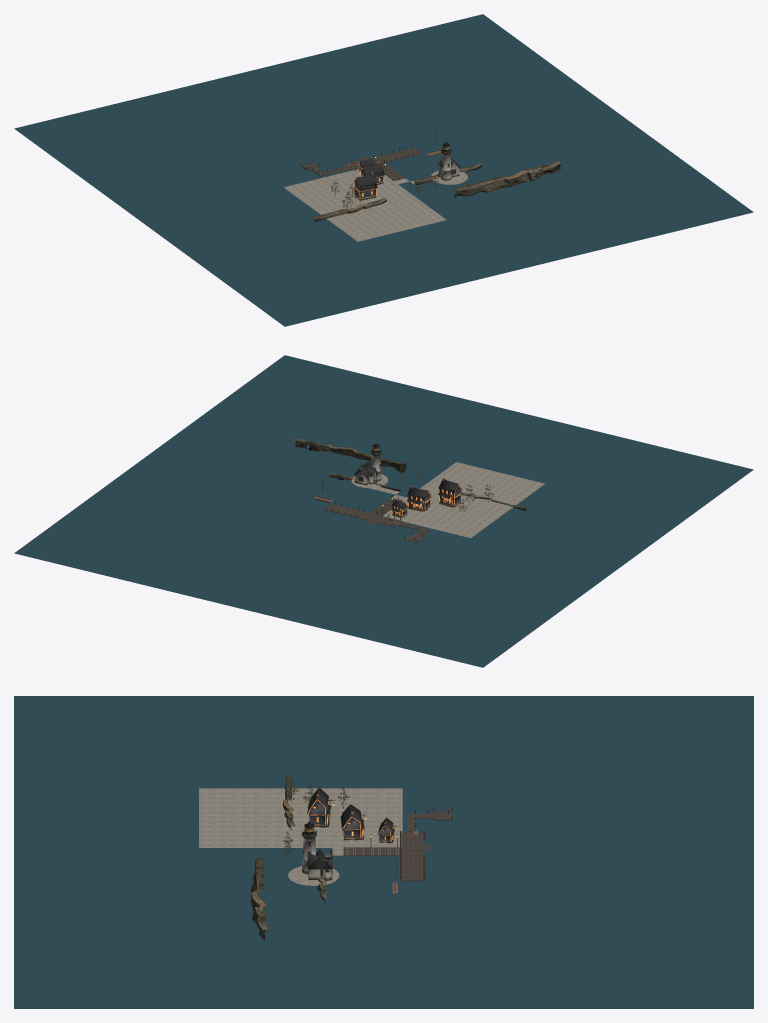
The model's file is bellweather-harbor-v6.glb.
3 renders of one model, top to bottom at view 1: azimuth 30°, elevation 25°; view 2: azimuth 150°, elevation 25°; view 3: azimuth 270°, elevation 25°, orthographic. The views are drawn at different scales.
Parts seen in each view (by area): view 1: Sculpted harbor water, Harbor stone quay, CC0 scanned outer headland, Tripo Lighthouse and Keeper Cottage, Tripo Harbor rooms; view 2: Sculpted harbor water, Harbor stone quay, CC0 scanned outer headland, Tripo Lighthouse and Keeper Cottage, Main wet timber pier, Tripo Harbor rooms; view 3: Sculpted harbor water, Harbor stone quay, Tripo Lighthouse and Keeper Cottage, Main wet timber pier, CC0 scanned outer headland, Tripo Harbor rooms, Tripo Turner chandlery.
Part boxes in pixels (box(x1,y1,x2,y2)): Sculpted harbor water: box(14, 14, 753, 326); Harbor stone quay: box(284, 169, 446, 241); CC0 scanned outer headland: box(453, 160, 560, 197); Tripo Lighthouse and Keeper Cottage: box(437, 142, 460, 180); Tripo Harbor rooms: box(353, 172, 377, 200); Sculpted harbor water: box(14, 355, 753, 667); Harbor stone quay: box(383, 462, 544, 537); CC0 scanned outer headland: box(293, 439, 406, 472); Tripo Lighthouse and Keeper Cottage: box(354, 442, 381, 485); Main wet timber pier: box(324, 504, 402, 527); Tripo Harbor rooms: box(438, 478, 462, 507); Sculpted harbor water: box(14, 696, 753, 1008); Harbor stone quay: box(199, 788, 402, 855); Tripo Lighthouse and Keeper Cottage: box(301, 820, 332, 880); Main wet timber pier: box(402, 833, 423, 881); CC0 scanned outer headland: box(250, 857, 269, 940); Tripo Harbor rooms: box(307, 787, 334, 827); Tripo Turner chandlery: box(340, 804, 366, 840).
Size of the model in its own units: 200 by 18.71 by 200.
15 materials, 9 textured.
